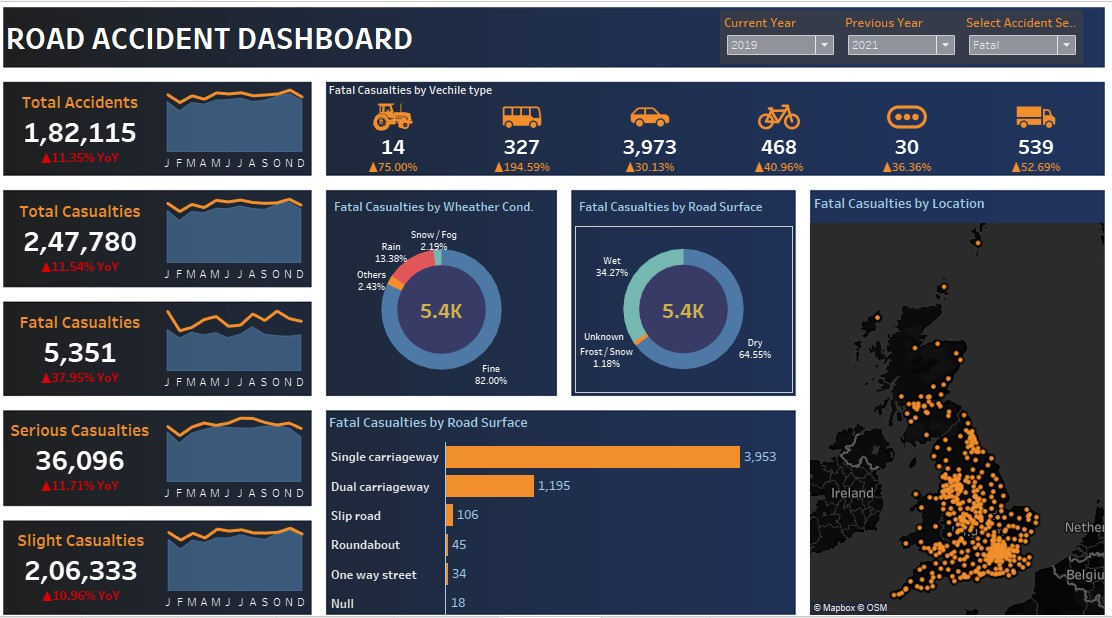

This screenshot's page, from the dashboard's own definition file:
{"tool":"tableau","page":{"name":"Dashboard 1","canvas":[1126,638],"ordinal":0},"visuals":[{"type":"image","param":"C:/Users/abhay/Desktop/Picture2.jpg","box":[8,8,1110,622]},{"type":"text","box":[12,12,418,61]},{"type":"parameter","param":"[Parameters].[Parameter 1]","box":[729,15,121,54]},{"type":"parameter","param":"[Parameters].[Current Year (copy)_1617073803217702913]","box":[850,15,121,54]},{"type":"parameter","param":"[Parameters].[Parameter 2]","box":[971,15,121,54]},{"type":"text","box":[335,85,325,20]},{"type":"worksheet","title":"Total Accidents","mark":"Automatic","box":[11,86,155,95]},{"type":"worksheet","title":"Accident Sparkline","mark":"Automatic","rows":["CY Accidents (copy)_1617073803218944003","Calculation_1617073803217858562"],"cols":["Accident Date"],"box":[166,86,155,95]},{"type":"worksheet","title":"Vechile Type Images","mark":"Shape","box":[334,104,779,32]},{"type":"worksheet","title":"Vechile Type KPI","mark":"Automatic","box":[334,136,779,48]},{"type":"worksheet","title":"Total Casualties","mark":"Automatic","box":[12,195,154,97]},{"type":"worksheet","title":"Total Casualties Sparkline","mark":"Automatic","rows":["CY Casualties (copy)_1617073803223687176","Calculation_1617073803222921223"],"cols":["Accident Date"],"box":[166,195,154,97]},{"type":"worksheet","title":"Wheather Conditions","mark":"Pie","rows":["Calculation_1617073803263729694","Calculation_1617073803263750176"],"box":[335,195,231,207]},{"type":"worksheet","title":"Road Surface","mark":"Pie","rows":["Calculation_1617073803263729694","Calculation_1617073803263750176"],"box":[580,195,226,207]},{"type":"worksheet","title":"By Location","mark":"Automatic","rows":["Latitude"],"cols":["Longitude"],"box":[819,195,294,425]},{"type":"worksheet","title":"Fatal Casualties","mark":"Automatic","box":[11,307,155,93]},{"type":"worksheet","title":"Fatal Sparkline","mark":"Automatic","rows":["CY Fatal Casualties (copy)_1617073803225288715","Calculation_1617073803224612874"],"cols":["Accident Date"],"box":[166,307,154,93]},{"type":"worksheet","title":"Serious Casualties","mark":"Automatic","box":[11,414,155,97]},{"type":"worksheet","title":"Serious Sparkline ","mark":"Automatic","rows":["CY Serious Casualties  (copy)_1617073803226710032","CY Fatal Casualties (copy)_1617073803226611727"],"cols":["Accident Date"],"box":[166,414,154,97]},{"type":"worksheet","title":"Road Type","mark":"Automatic","rows":["Road_Type"],"cols":["Calculation_1617073803222921223"],"box":[334,414,471,209]},{"type":"worksheet","title":"Slight Casualties","mark":"Automatic","box":[12,524,155,96]},{"type":"worksheet","title":"Slight Sparkline","mark":"Automatic","rows":["PY Serious Casualties  (copy)_1617073803227586579","CY Serious Casualties  (copy)_1617073803227447314"],"cols":["Accident Date"],"box":[167,524,154,96]}]}

Visuals, with their boxes in screenshot pixels (x1, y1, x2, y2), scaled from the page's 1126x638 canvas onto the 1112x618 screenshot:
image: 8 8 1104 610
text: 12 12 425 71
parameter: 720 15 839 67
parameter: 839 15 959 67
parameter: 959 15 1078 67
text: 331 82 652 102
"Total Accidents" worksheet: 11 83 164 175
"Accident Sparkline" worksheet: 164 83 317 175
"Vechile Type Images" worksheet (Shape marks): 330 101 1099 132
"Vechile Type KPI" worksheet: 330 132 1099 178
"Total Casualties" worksheet: 12 189 164 283
"Total Casualties Sparkline" worksheet: 164 189 316 283
"Wheather Conditions" worksheet (Pie marks): 331 189 559 389
"Road Surface" worksheet (Pie marks): 573 189 796 389
"By Location" worksheet: 809 189 1099 601
"Fatal Casualties" worksheet: 11 297 164 387
"Fatal Sparkline" worksheet: 164 297 316 387
"Serious Casualties" worksheet: 11 401 164 495
"Serious Sparkline " worksheet: 164 401 316 495
"Road Type" worksheet: 330 401 795 603
"Slight Casualties" worksheet: 12 508 165 601
"Slight Sparkline" worksheet: 165 508 317 601
